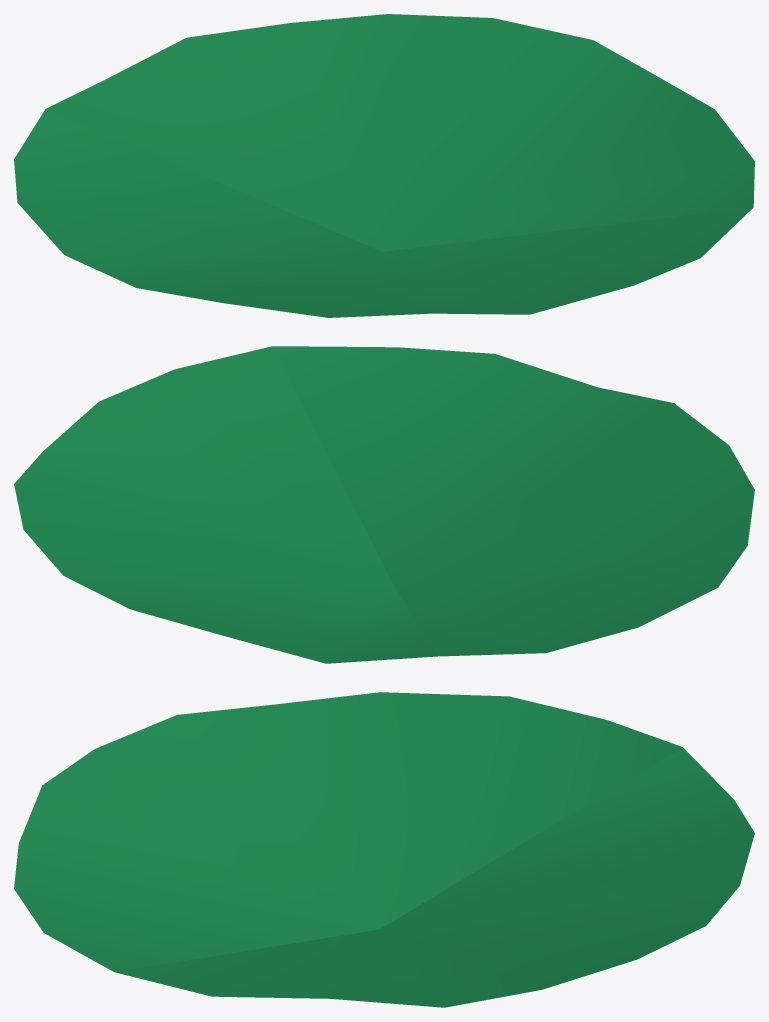
The model's file is plant_mushroom_leaf_A.fbx.
3 views of the same model, one above another, from view 1: azimuth 30°, elevation 25°; view 2: azimuth 150°, elevation 25°; view 3: azimuth 270°, elevation 25° (orthographic). The views are drawn at different scales.
Visible parts, largest first — view 1: plant_mushroom_leaf_A; view 2: plant_mushroom_leaf_A; view 3: plant_mushroom_leaf_A.
Boxes of the visible parts, x1,y1,x2,y2 form: plant_mushroom_leaf_A: (14, 14, 754, 317); plant_mushroom_leaf_A: (14, 346, 754, 663); plant_mushroom_leaf_A: (14, 692, 754, 1007).
Size of the model in its own units: 30.31 by 3.96 by 29.88.
